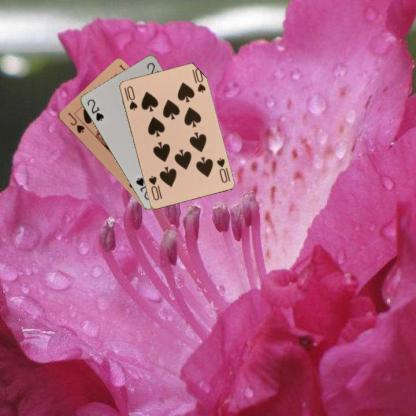10s: (121, 83, 139, 112), (214, 155, 229, 184)
2s: (84, 96, 104, 122)
Js: (65, 110, 86, 134)
